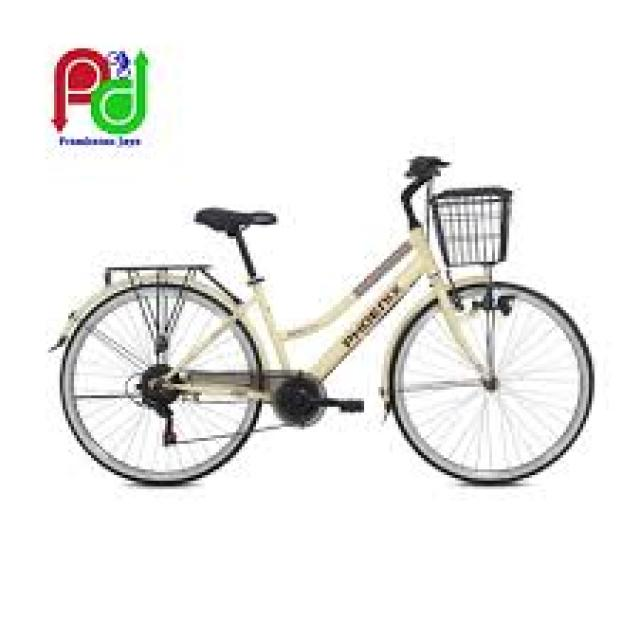bicycle: (60, 158, 586, 491)
